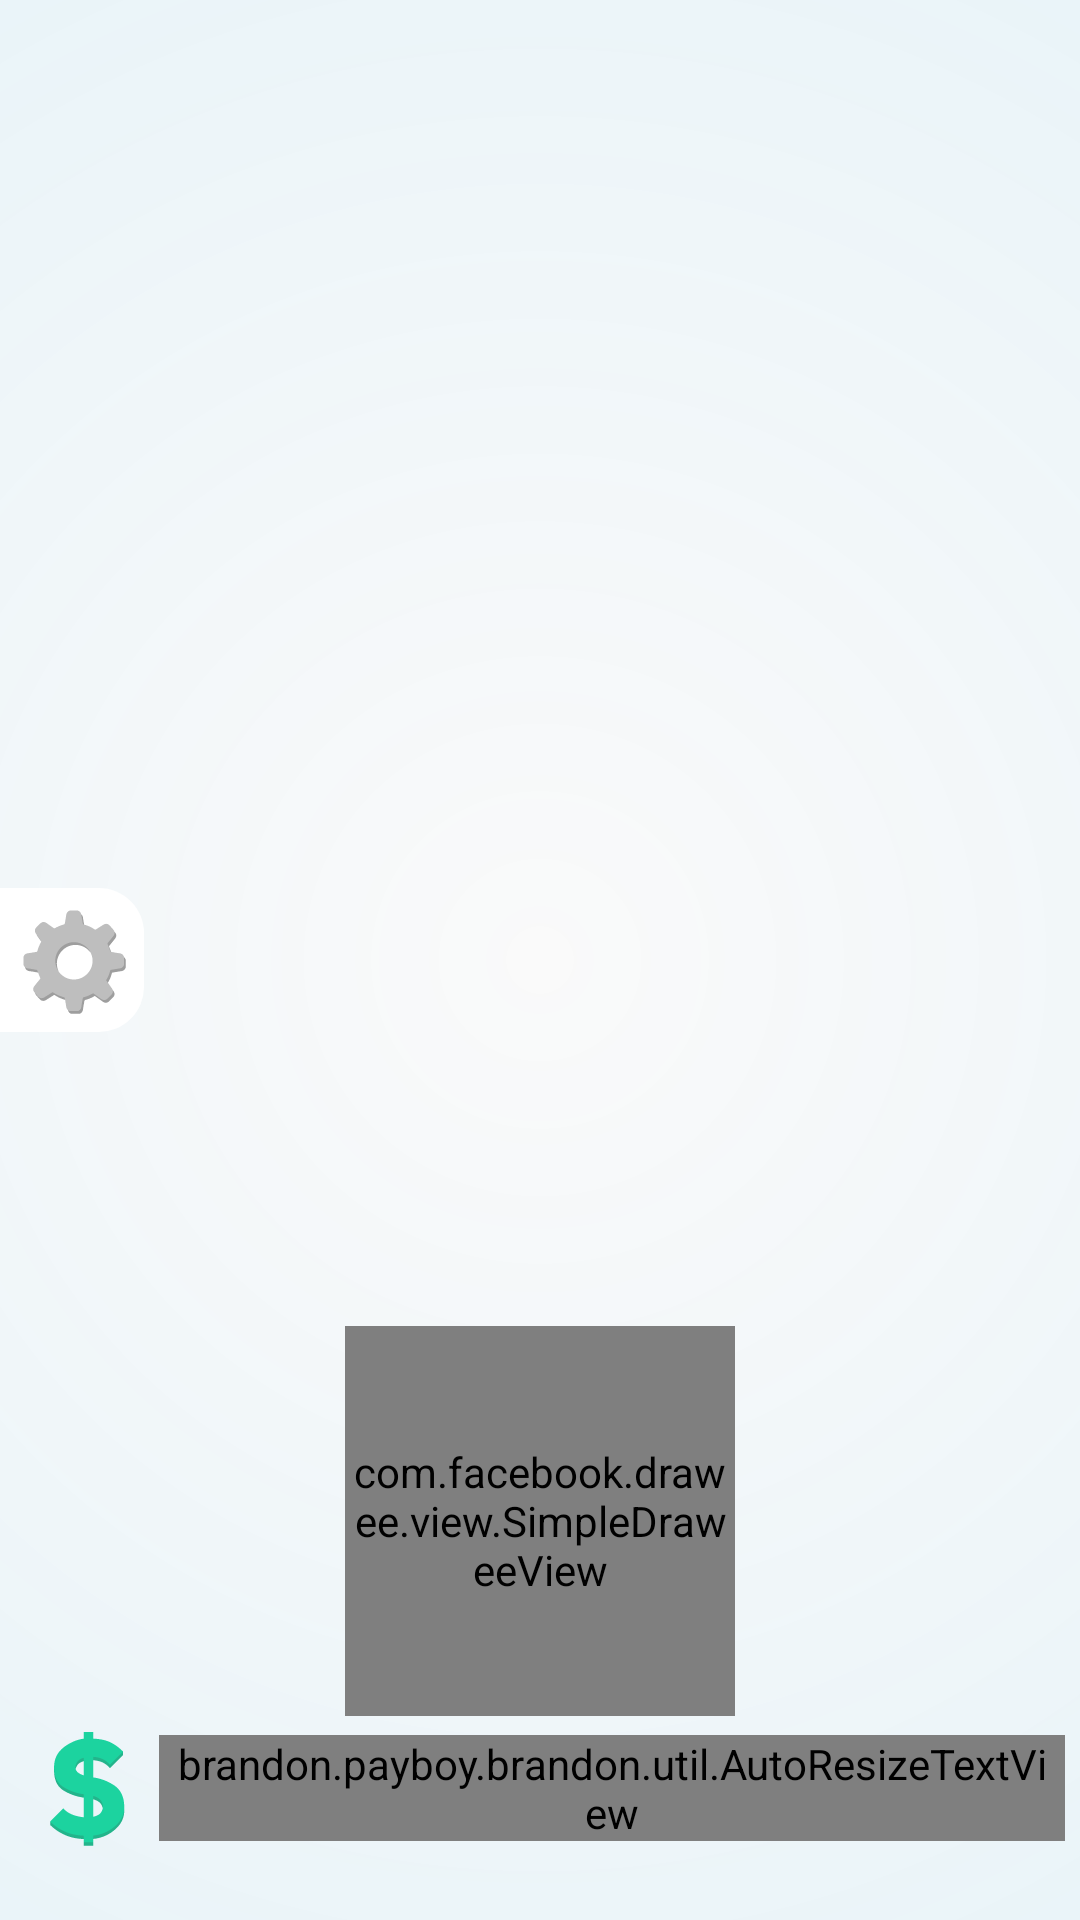

Icon click points for this 1080px×1920px phone screenshot, format point (x, y):
dollar: point (87, 1789)
setting: point (74, 962)
